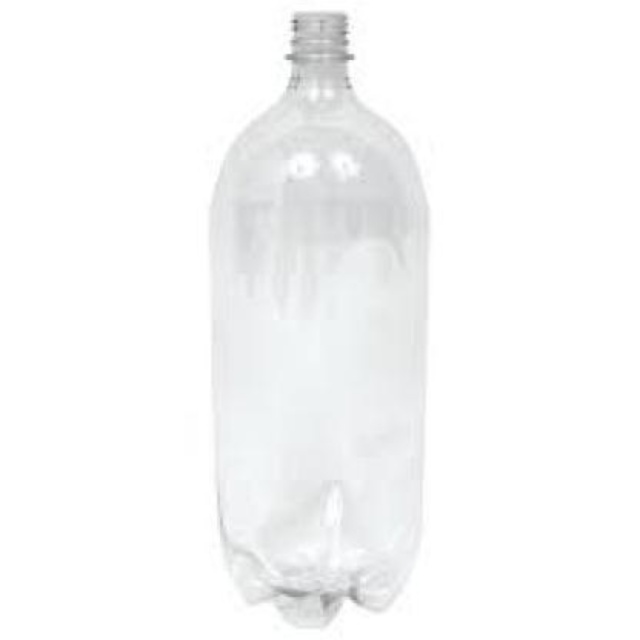trash: (211, 12, 426, 625)
